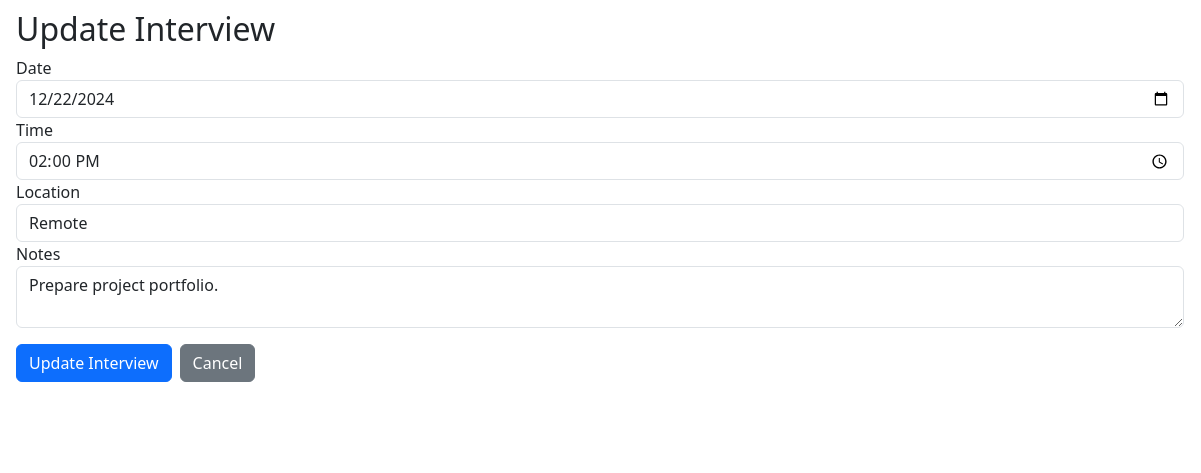
Test: InterviewUpdateForm Component › displays error message on update failure
Click the button "Update Interview".
click(94, 363)  # box [16,344,172,382]
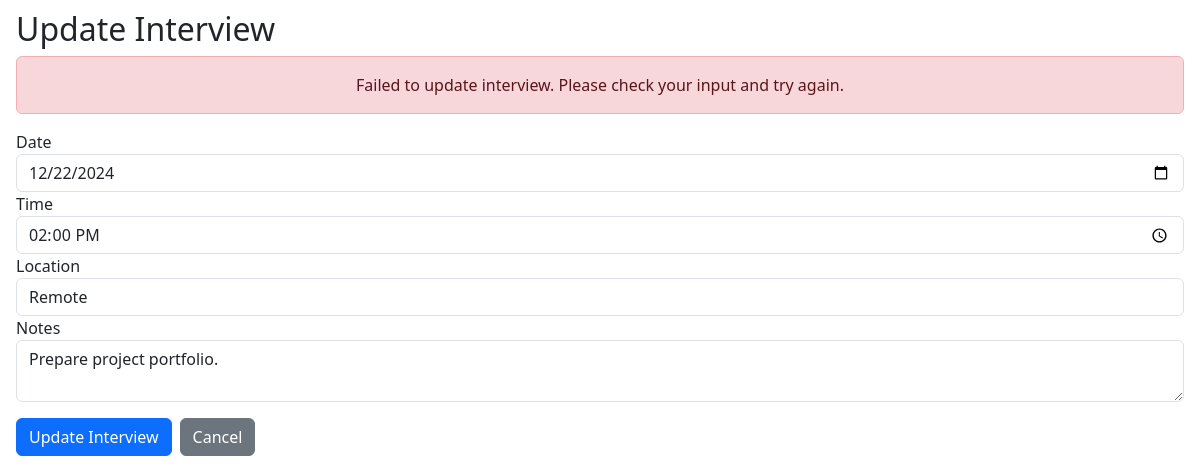
Now the text "Failed to update interview. Please check your input and try again." is shown, box [16,56,1184,114]
